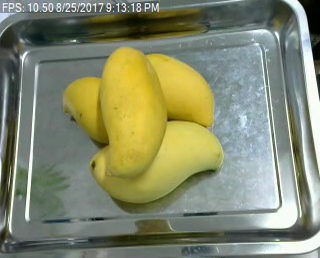Mango: (87, 120, 223, 204), (100, 44, 168, 180), (136, 51, 217, 126), (62, 76, 120, 143)
